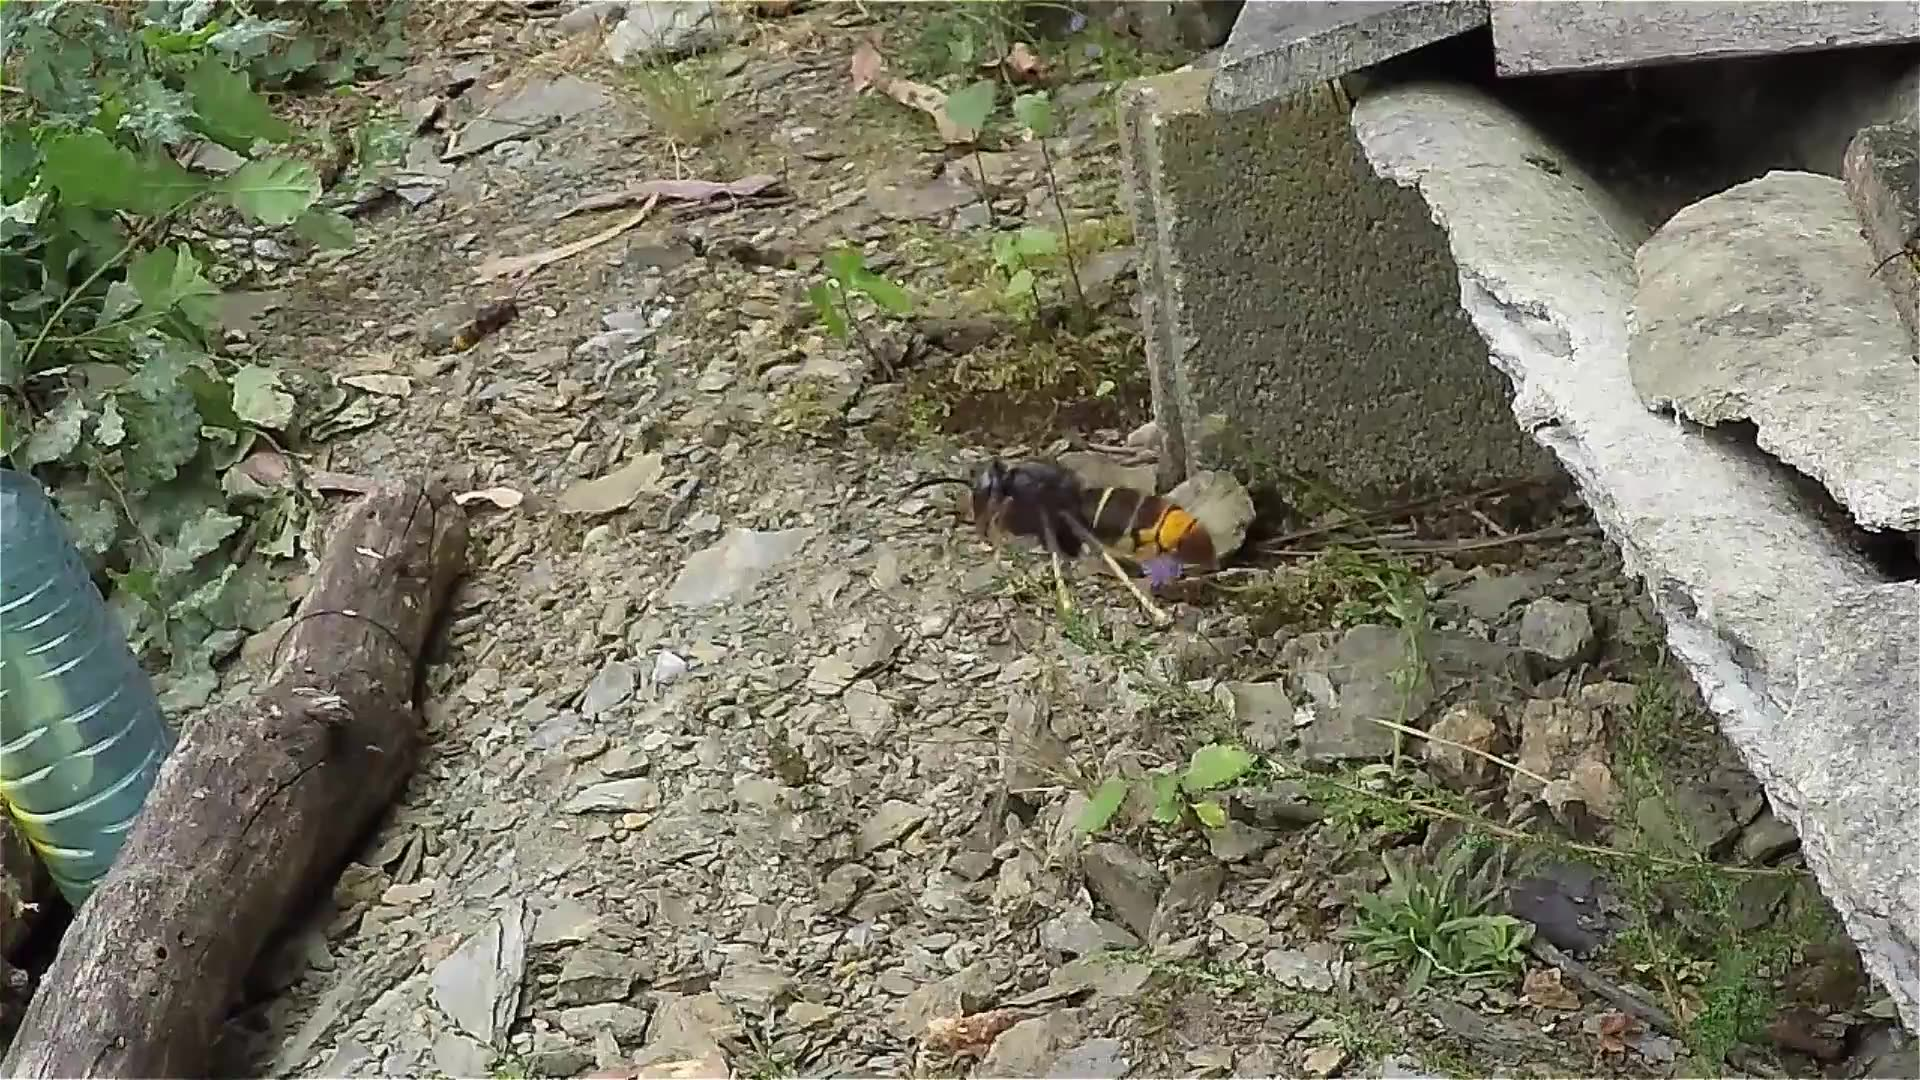bee: (455, 293, 529, 353)
hornet: (957, 442, 1222, 593)
